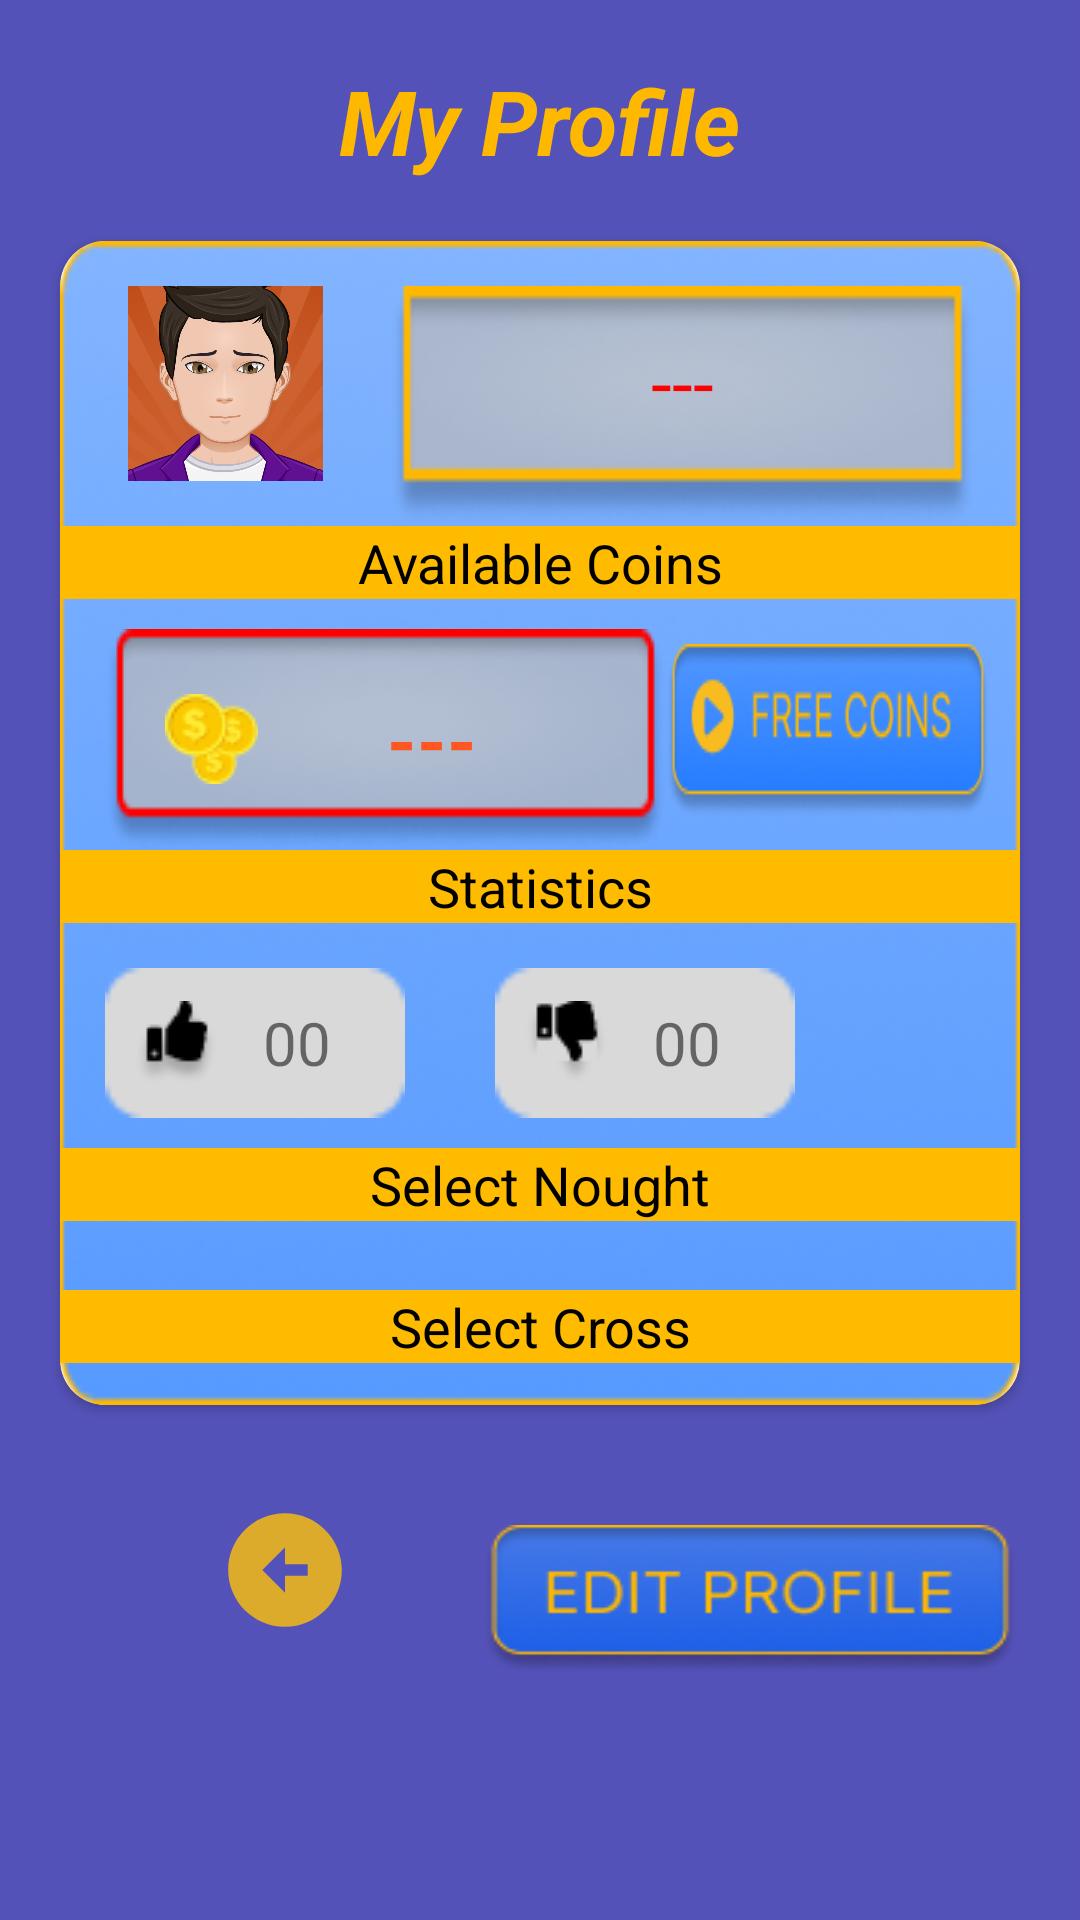

Icons on this 1080px x 1920px Android screen, each with the point to tap as (x=x, y=y):
back arrow: (x=285, y=1570)
